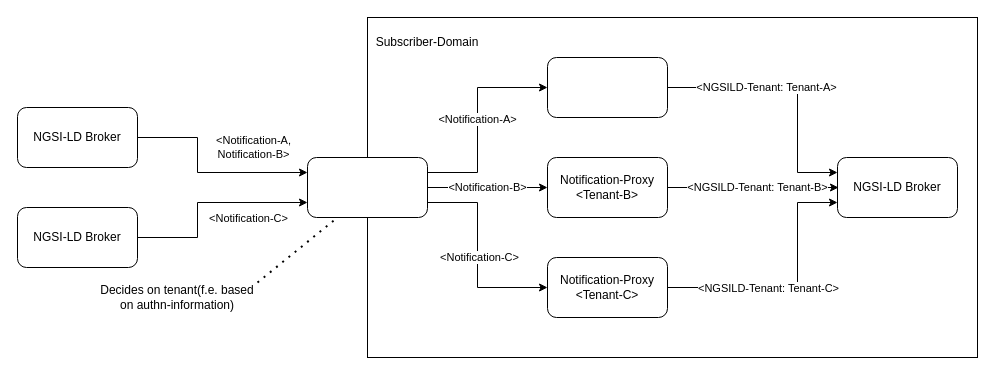
This 995x375 diagram has some shape labels left out. Each missing label, with the centre of its shape:
"API-Gateway" goes at (367,187).
"Notification-Proxy <Tenant-A>" goes at (607,87).
